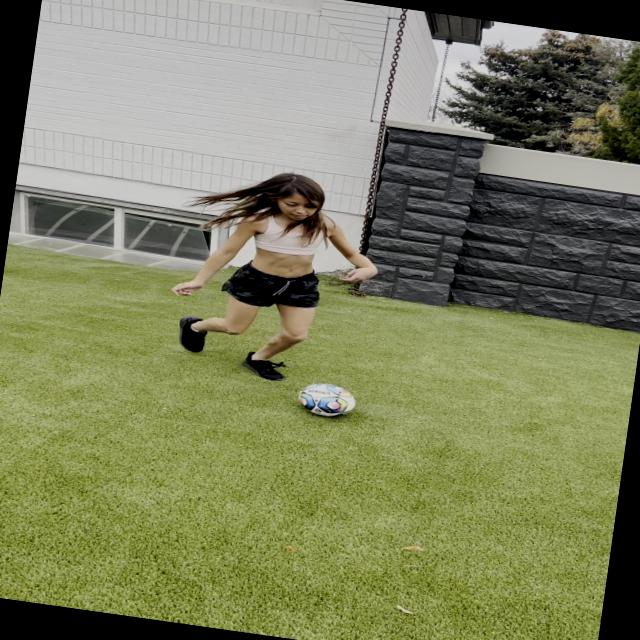Soccer Ball: (294, 378, 356, 421)
